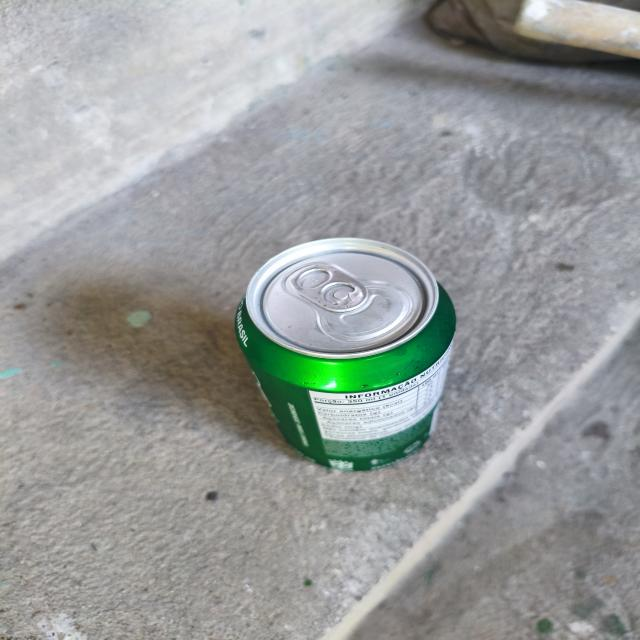Guarana: (208, 206, 488, 496)
